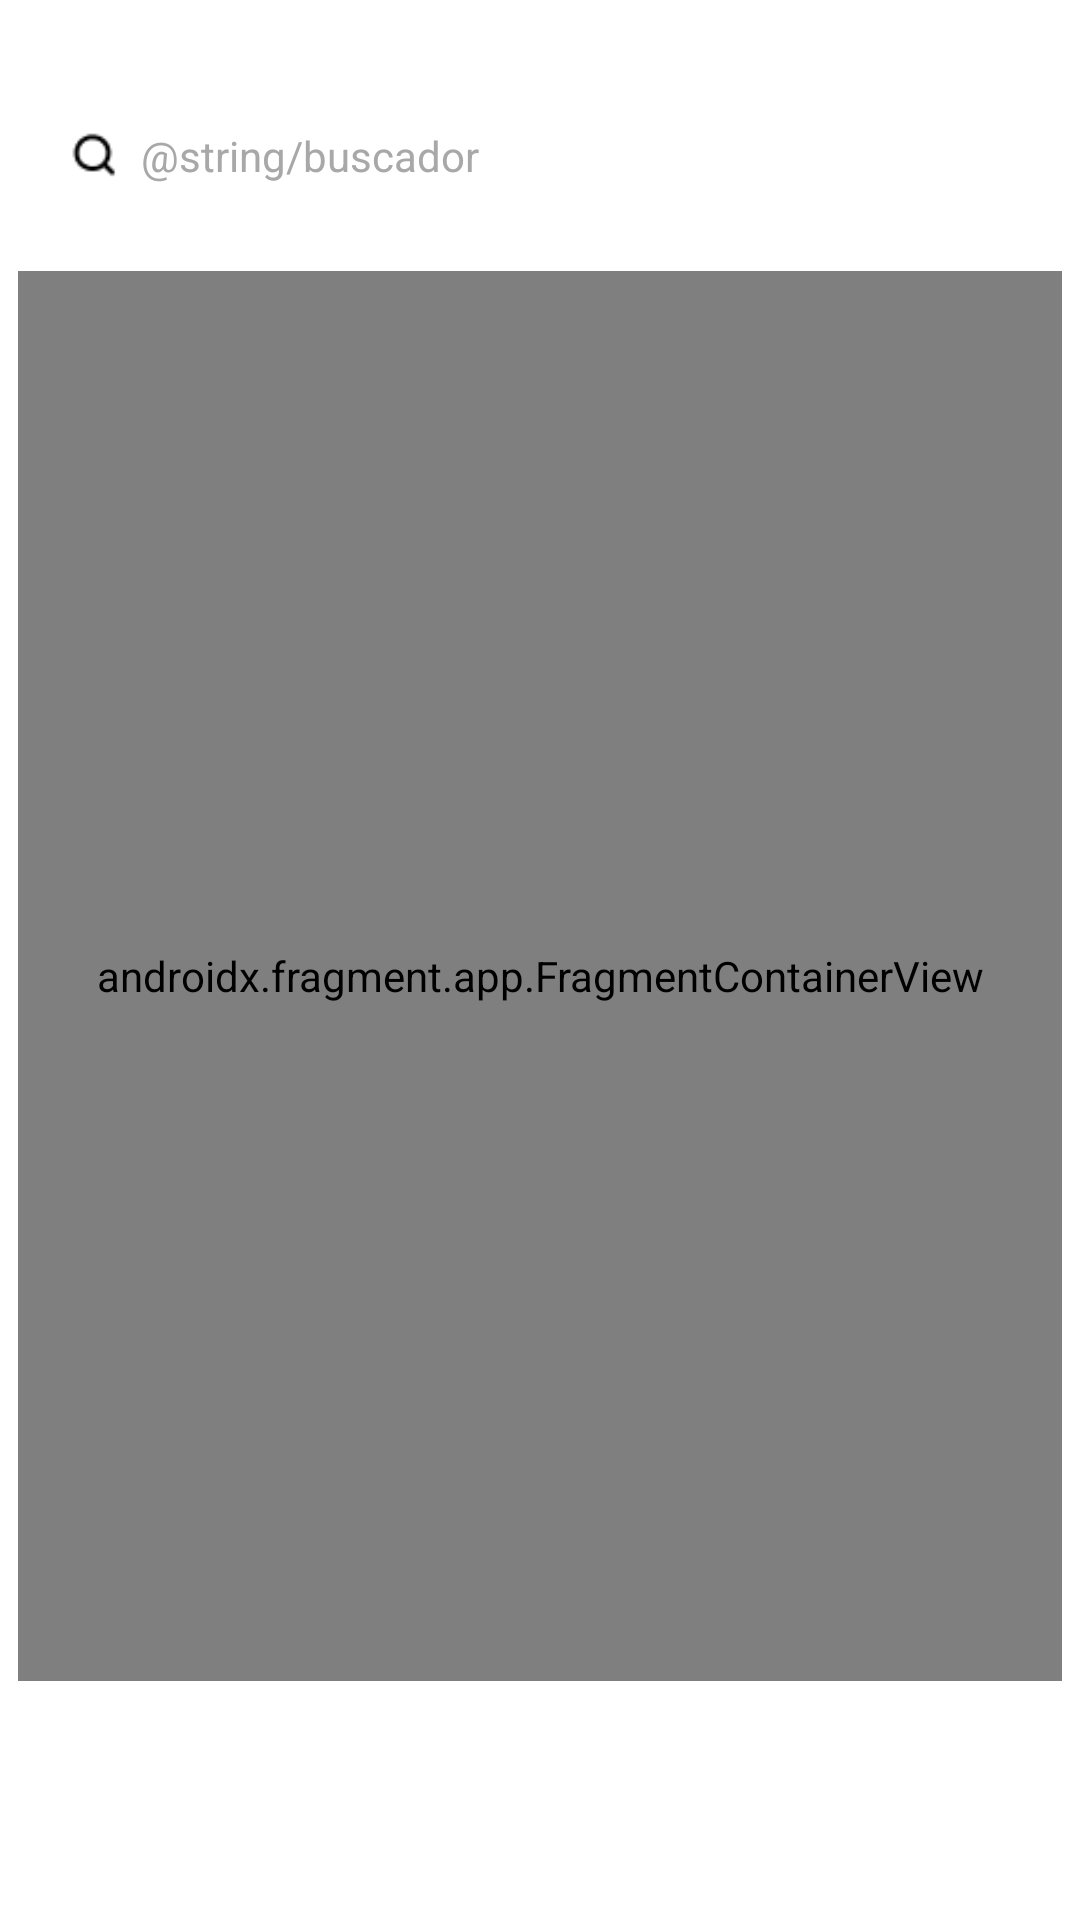

Named icons in this screenshot (1080px x 1920px) and their bounding boxes, bbox=(x1, y1, x2, y2):
akar search: bbox=(72, 133, 115, 176)
